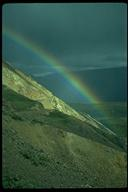mountain: (3, 57, 127, 186)
sky: (8, 6, 124, 58)
